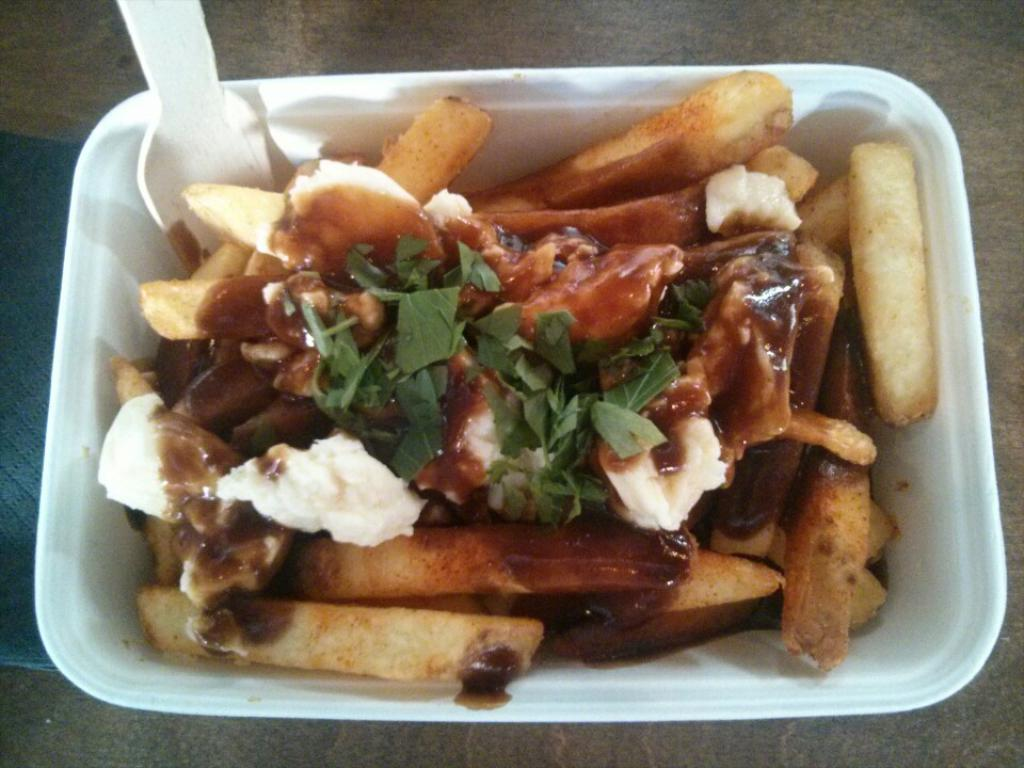French fries: (104, 70, 940, 691)
